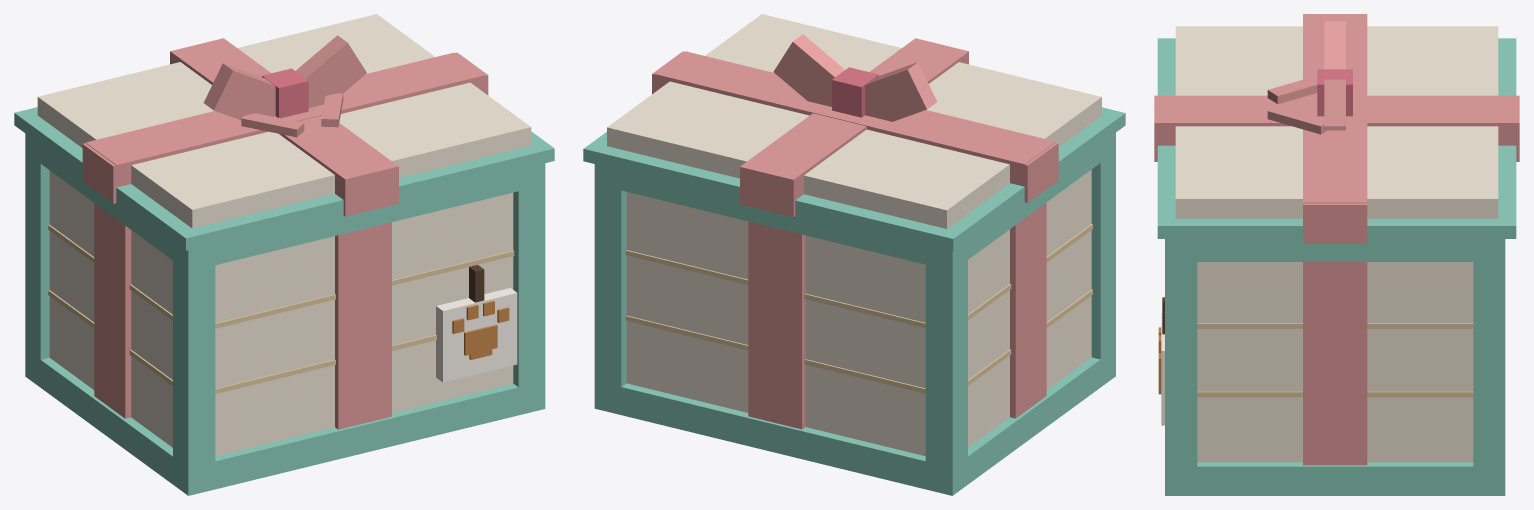
Rendered from CatCafe_Prop_Crate_Classic.glb.
The picture shows the model from 3 angles, left to right: view 1: azimuth 30°, elevation 25°; view 2: azimuth 150°, elevation 25°; view 3: azimuth 270°, elevation 25°; orthographic projection. The views are drawn at different scales.
Visible parts, largest first — view 1: CatCafe_Prop_Crate_Classic, CatCafe_Prop_Crate_Classic_Lid; view 2: CatCafe_Prop_Crate_Classic, CatCafe_Prop_Crate_Classic_Lid; view 3: CatCafe_Prop_Crate_Classic, CatCafe_Prop_Crate_Classic_Lid.
Part boxes in pixels (x1,y1,x2,y2): CatCafe_Prop_Crate_Classic: (25,133,545,495); CatCafe_Prop_Crate_Classic_Lid: (14,14,554,250); CatCafe_Prop_Crate_Classic: (594,132,1115,495); CatCafe_Prop_Crate_Classic_Lid: (583,14,1125,251); CatCafe_Prop_Crate_Classic: (1158,239,1505,495); CatCafe_Prop_Crate_Classic_Lid: (1154,14,1519,243).
Bounding box in the file's own units: 2.52 × 2.18 × 2.04.
1 material, 1 textured.
